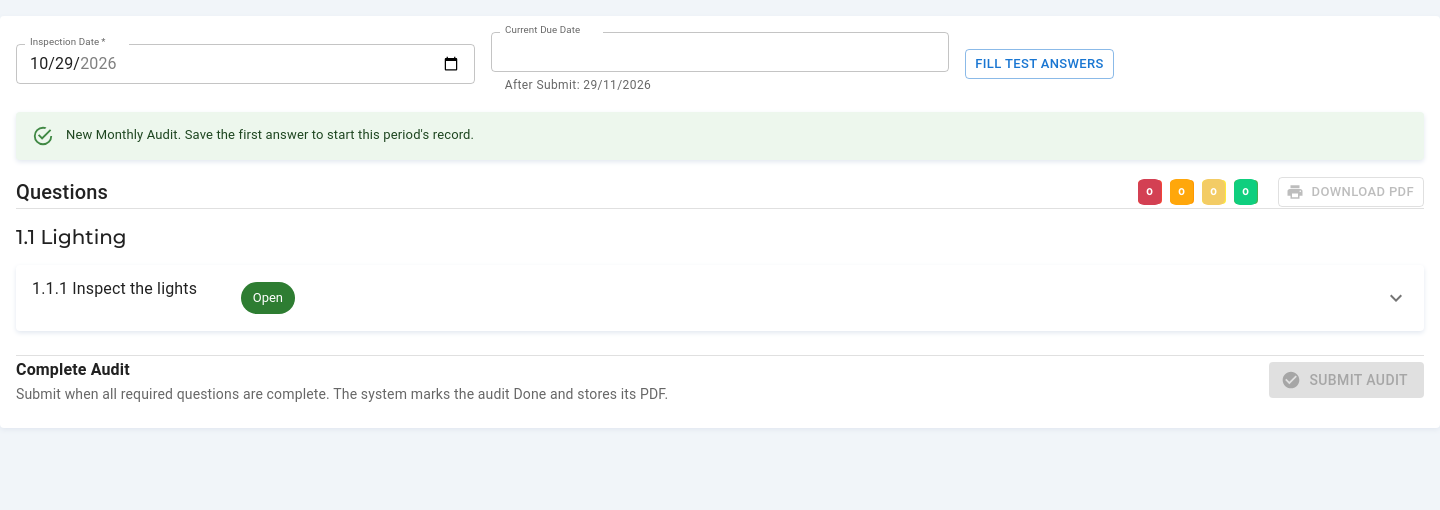
Test: a failed answer save does not increment the saved risk totals
Step 1. Click the button "Fill test answers" → (1040, 64), box [965,49,1114,79]
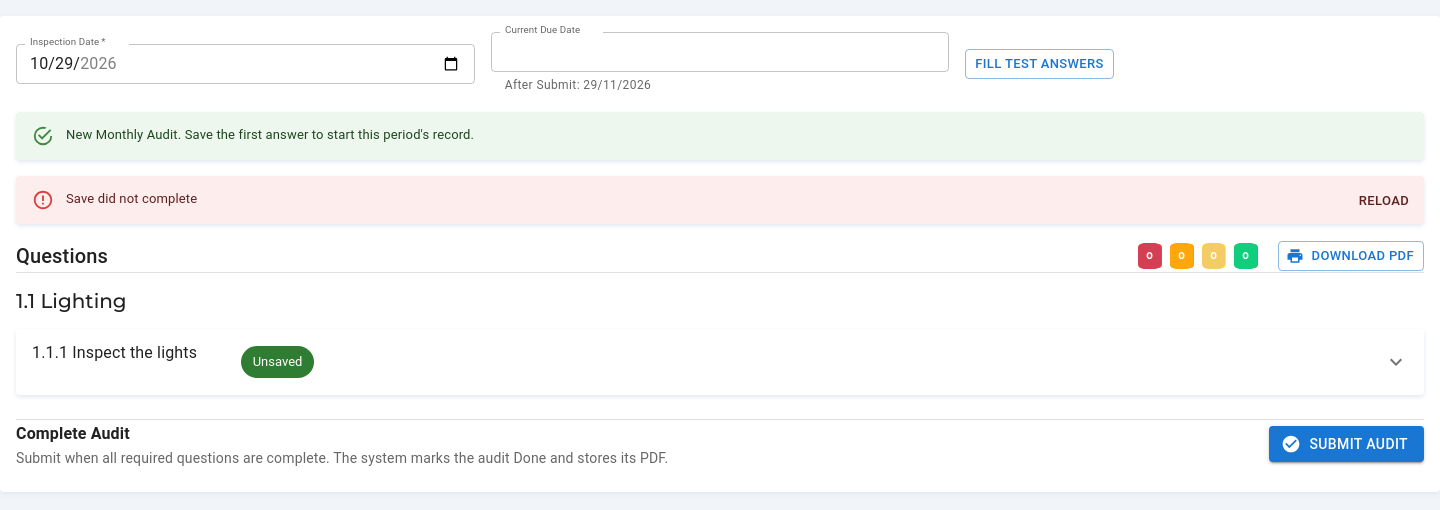
Expected: the text named "Green risk count" reads "0", [1242,250,1249,261]
Expected: the text "Save did not complete" is shown, [66,191,197,206]
